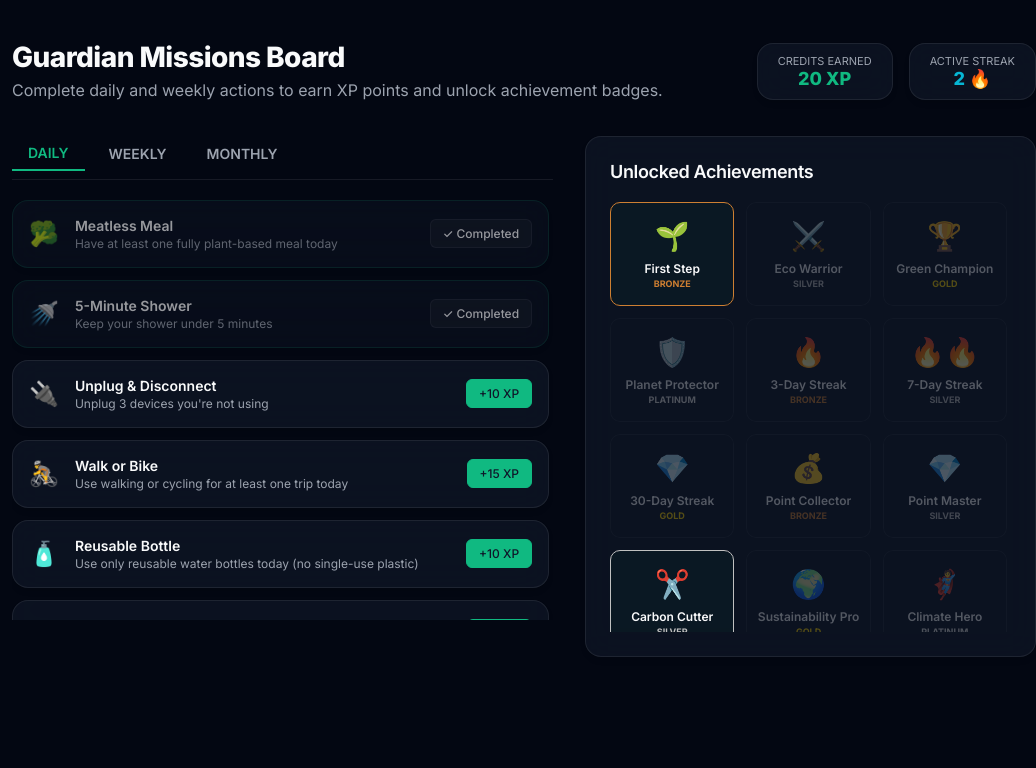
Test: ChallengesPage Component › renders daily challenges list and supports tab clicking
This screenshot has width=1036, height=768.
Expected: the text "Meatless Meal" is shown, [75,217,173,234]
Click on weekly tab
Click the tab "weekly" at (138, 153), box [93,136,183,171]
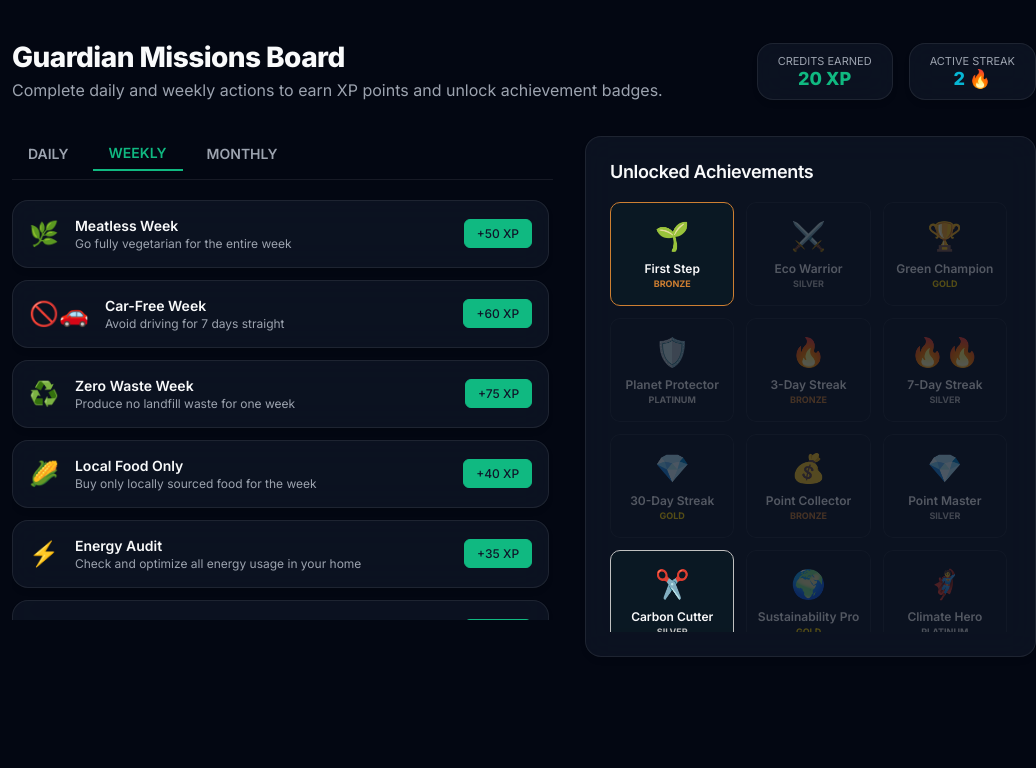
Expected: the text "Meatless Week" is shown, [75,217,178,234]
